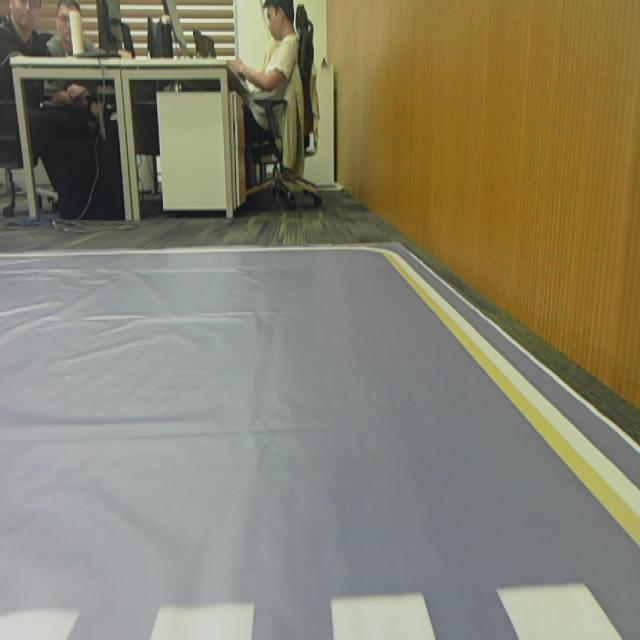right_lane: (385, 255, 640, 546)
